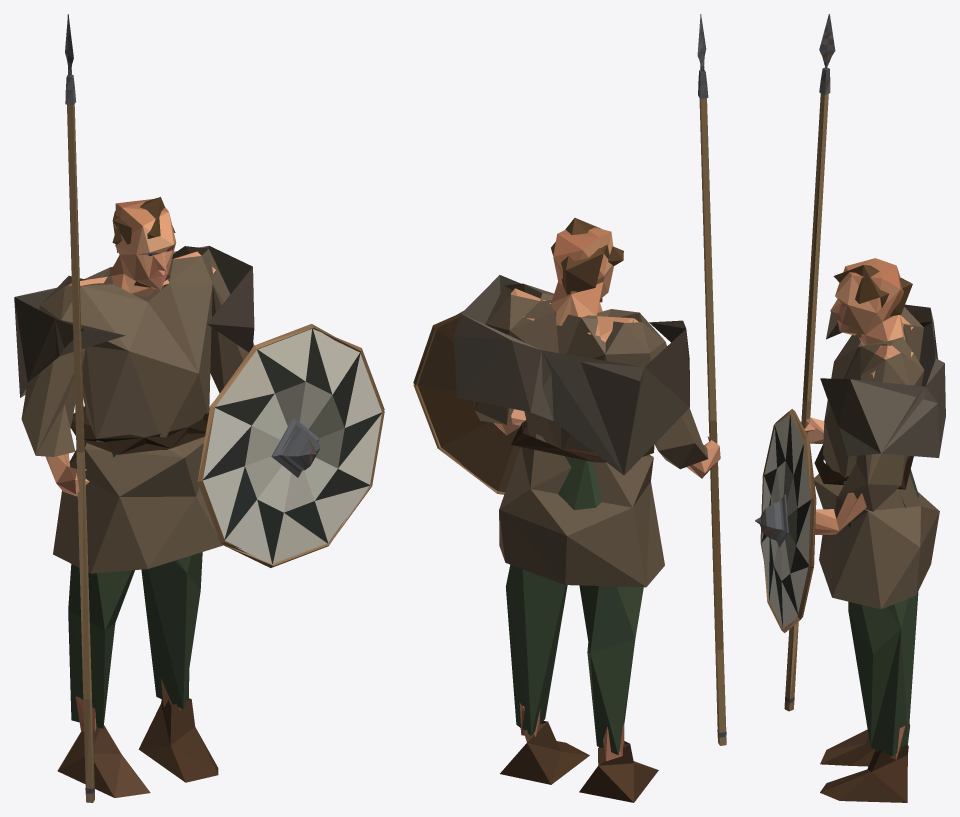
The model's file is forest_spear_far.glb.
3 renders of one model, left to right at view 1: azimuth 30°, elevation 25°; view 2: azimuth 150°, elevation 25°; view 3: azimuth 270°, elevation 25°, orthographic. The views are drawn at different scales.
Visible parts, largest first — view 1: forest_spear; view 2: forest_spear; view 3: forest_spear.
Part boxes in pixels (x1=…): forest_spear: x1=14, y1=14, x2=384, y2=802; forest_spear: x1=413, y1=14, x2=726, y2=802; forest_spear: x1=755, y1=14, x2=945, y2=802.
Size of the model in its own units: 1.02 by 2.37 by 0.5721.
1 material, 1 textured.
